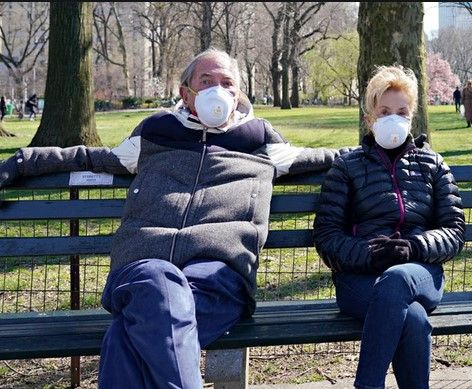face_with_mask: (179, 49, 242, 130), (366, 75, 418, 152)
